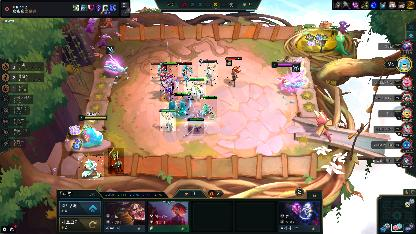1_gnar: (78, 156, 104, 180), (201, 96, 217, 118)
1_kaisa: (177, 62, 193, 86), (150, 62, 164, 84)
1_karma: (108, 148, 124, 174), (160, 109, 176, 131)
1_sett: (226, 56, 242, 88)
1_twitch: (188, 118, 204, 134)
2_jax: (184, 77, 206, 99)
2_karma: (198, 60, 218, 84)
2_sett: (160, 62, 178, 102)
jade: (174, 92, 190, 116)
